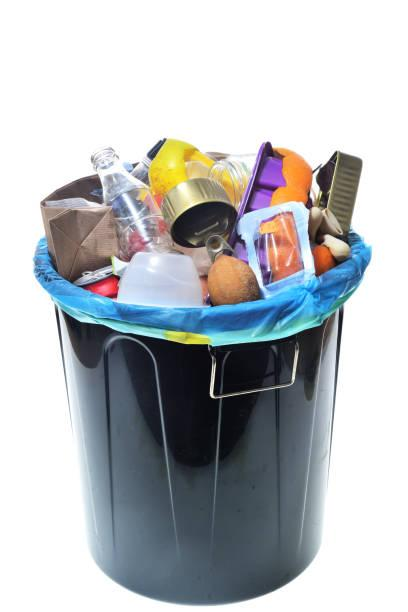trash: (35, 122, 379, 312)
trash_can_overflow: (0, 86, 384, 611)
